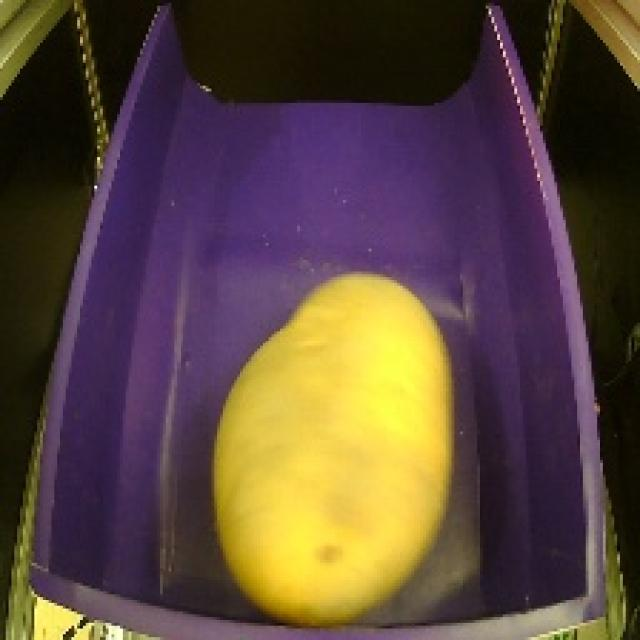full_potato: (194, 270, 478, 630)
